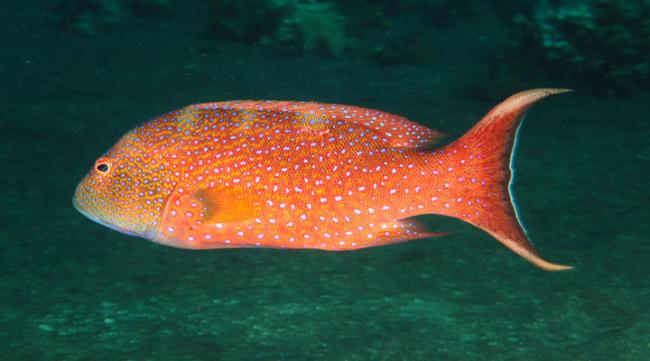fish: (72, 85, 574, 270)
